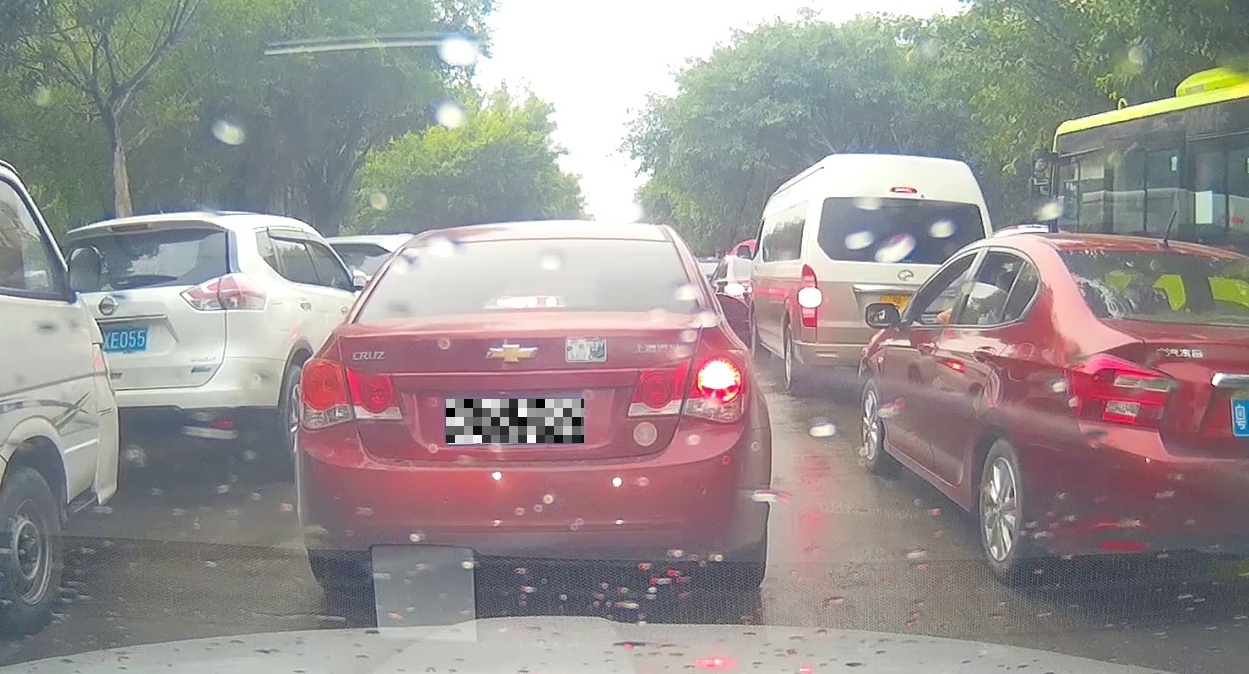L_light: (300, 359, 403, 429)
R_light: (627, 351, 750, 422)
T_light: (492, 294, 562, 307)
day-right: (296, 221, 771, 591)
plate_1: (446, 399, 584, 443)
